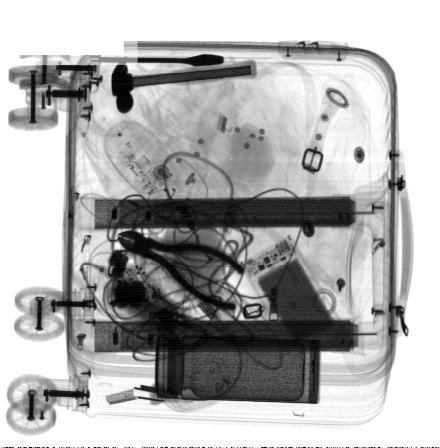Hammer: (110, 58, 257, 114)
Pliers: (117, 229, 245, 311)
Powerbank: (240, 233, 354, 368)
Wrench: (97, 53, 225, 66)
